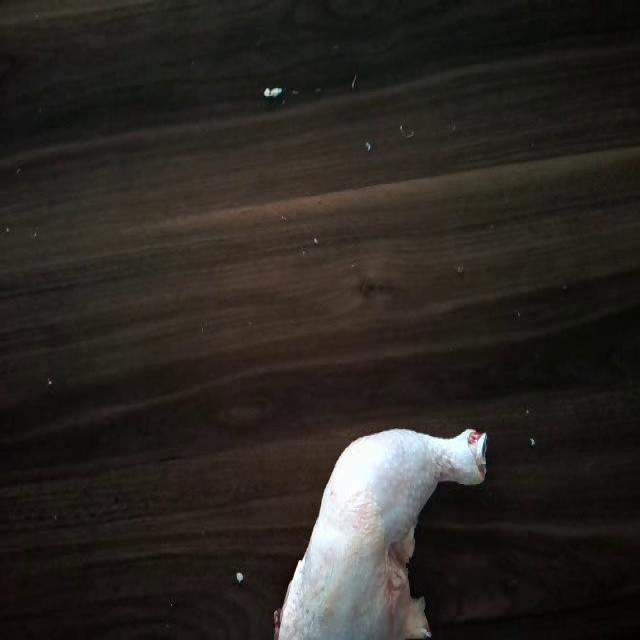quater: (278, 426, 492, 640)
